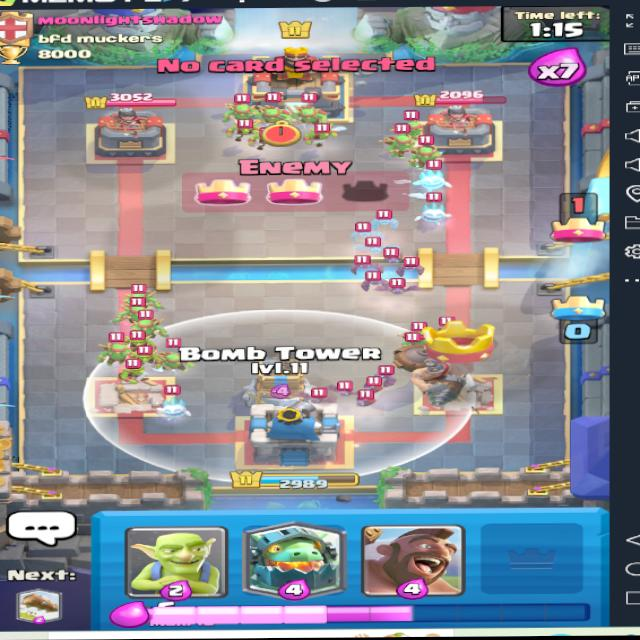bats: (373, 278, 421, 300), (298, 382, 331, 407), (347, 254, 387, 274), (396, 255, 432, 276), (346, 390, 381, 408), (334, 379, 359, 399), (360, 275, 391, 289)
goblin: (220, 115, 258, 144), (308, 120, 343, 145), (115, 360, 145, 384)
ice-spirit: (148, 386, 196, 419), (410, 195, 458, 228)
mighty-miner: (388, 328, 478, 414)
spear-goblin: (114, 297, 158, 330), (118, 280, 166, 310), (377, 128, 418, 161), (297, 94, 328, 126), (257, 95, 288, 126), (416, 137, 450, 165), (222, 93, 257, 120), (102, 338, 134, 365), (128, 319, 170, 339)
